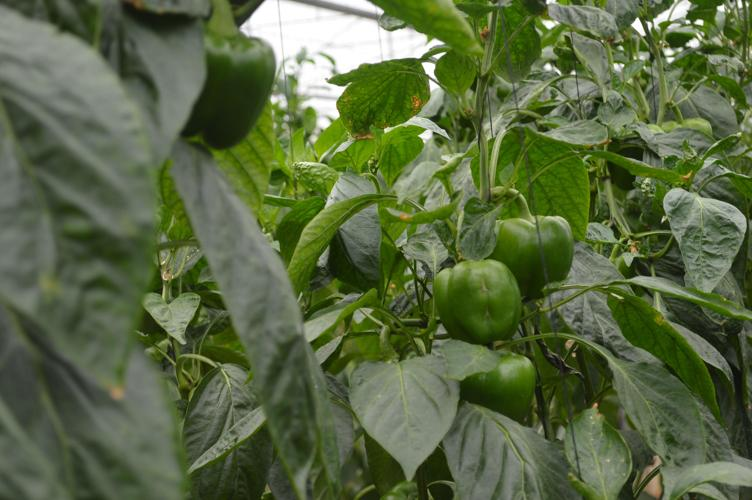BellPepper: (164, 24, 279, 164), (483, 203, 582, 294), (425, 254, 516, 345), (459, 350, 542, 438)
